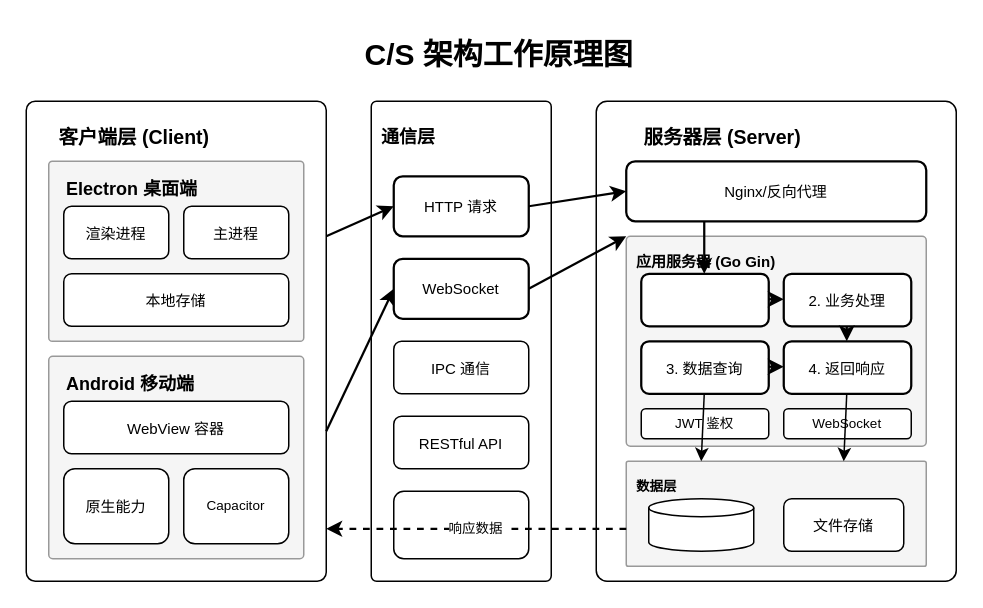
Some shapes in this 983 by 608 pixel diagram are drawn without their labels. The shapes that lost their labels are listed below. From the top down, each one's centre as x and y in pixels, then its label:
the point at 704,299: 1. 接收请求
the point at 460,524: JSON 数据
the point at 700,524: 数据库
